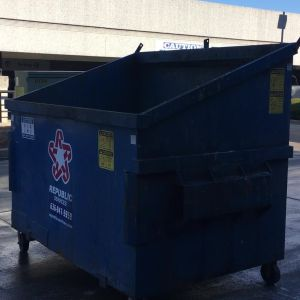Dumpster: (2, 28, 300, 299)
